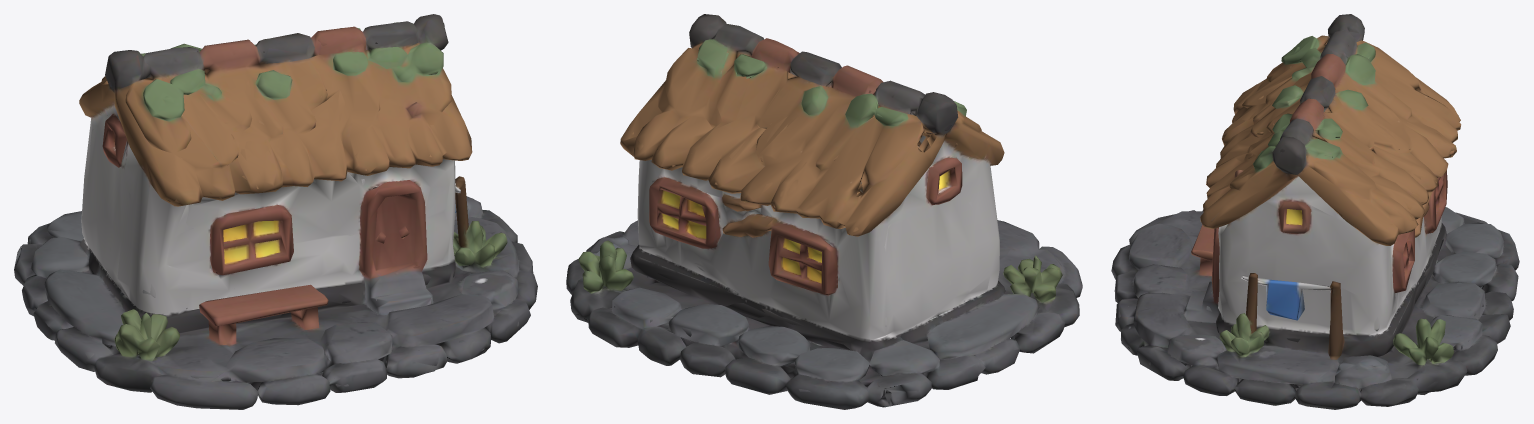
File: low-house-c.glb
The picture shows the model from 3 angles, left to right: view 1: azimuth 30°, elevation 25°; view 2: azimuth 150°, elevation 25°; view 3: azimuth 270°, elevation 25°; orthographic projection. The views are drawn at different scales.
Bounding box in the file's own units: 3 × 1.69 × 2.63.
Materials: 1 (1 with a texture image).
